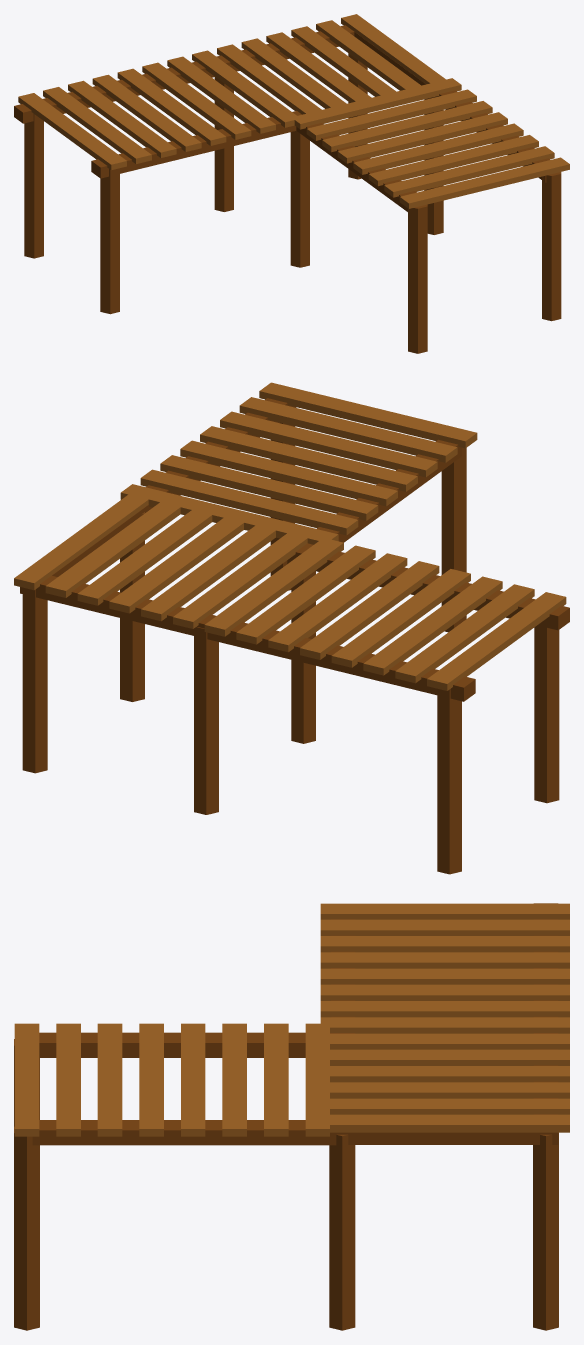
The model's file is Dock_01.fbx.
3 views of the same model, one above another, from view 1: azimuth 30°, elevation 25°; view 2: azimuth 150°, elevation 25°; view 3: azimuth 270°, elevation 25° (orthographic). The views are drawn at different scales.
Parts seen in each view (by area): view 1: Dock_01; view 2: Dock_01; view 3: Dock_01.
Part boxes in pixels (x1,y1,x2,y2): Dock_01: (14, 14, 569, 353); Dock_01: (14, 382, 569, 874); Dock_01: (14, 903, 569, 1330).
Bounding box in the file's own units: 5.99 × 2.47 × 6.09.
